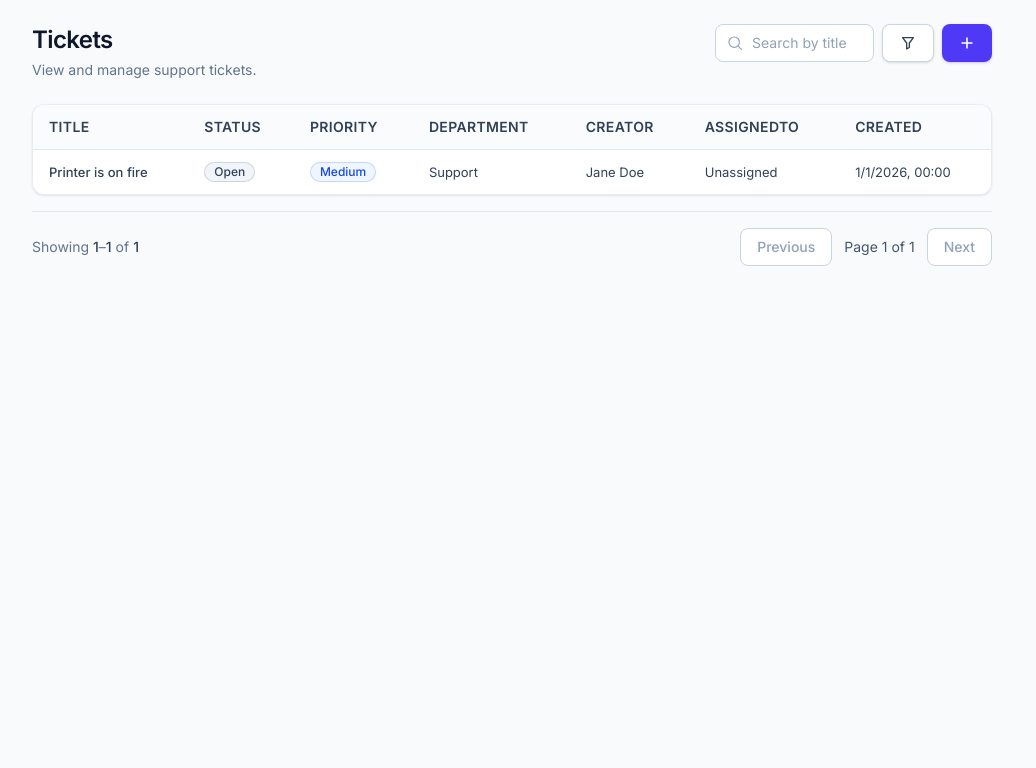
Test: TicketsListPage › shows the full department user list in the assignee/creator filters for an admin
Click the button named "Filters": click(908, 43) 882,24 -> 934,62
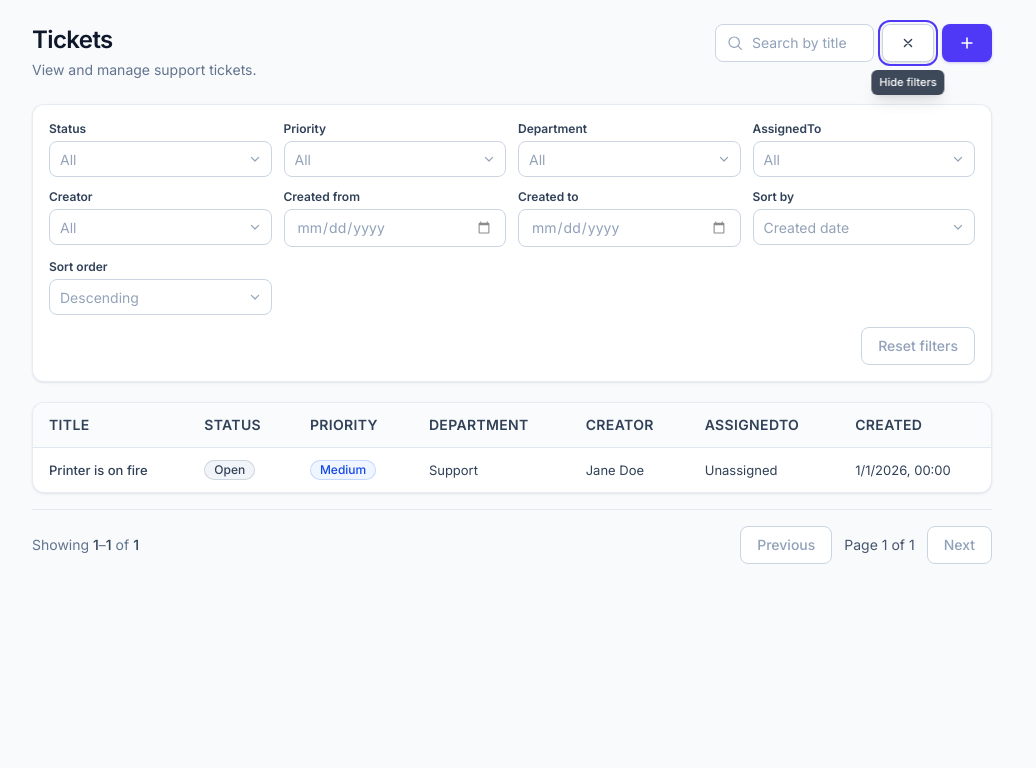
Click the dropdown labelled "AssignedTo": click(765, 159) 764,148 -> 767,170
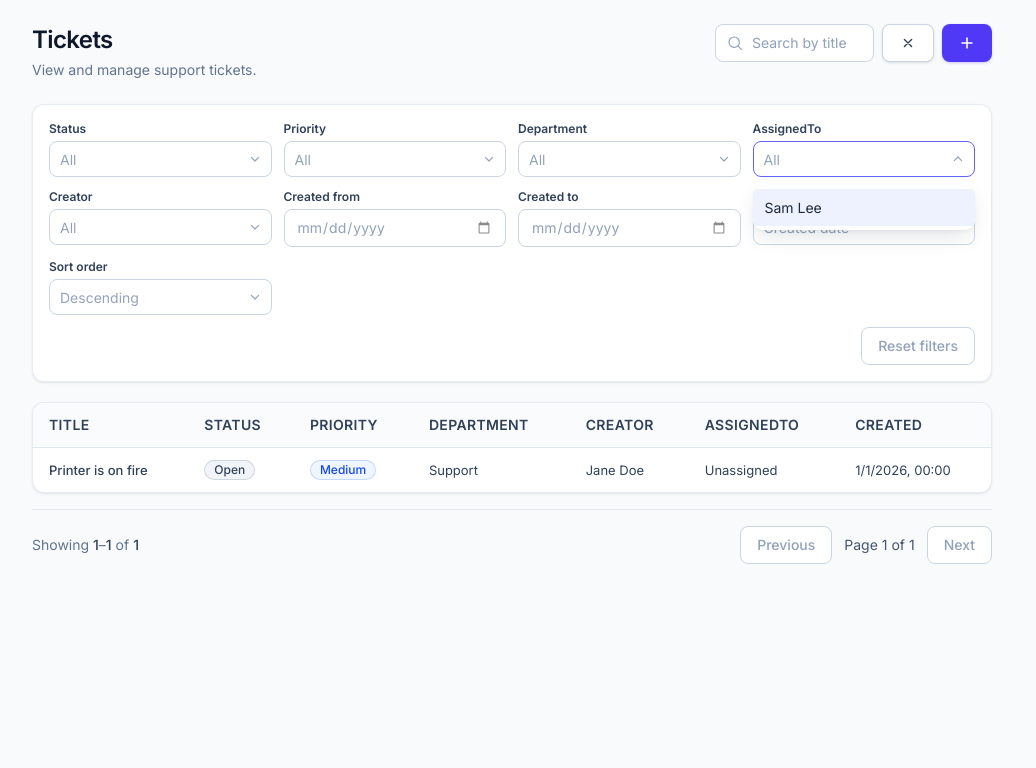
expect the dropdown labelled "Creator" is shown: met, box 60,216 -> 64,238
expect the option "Sam Lee" is shown: met, box 752,189 -> 975,226
